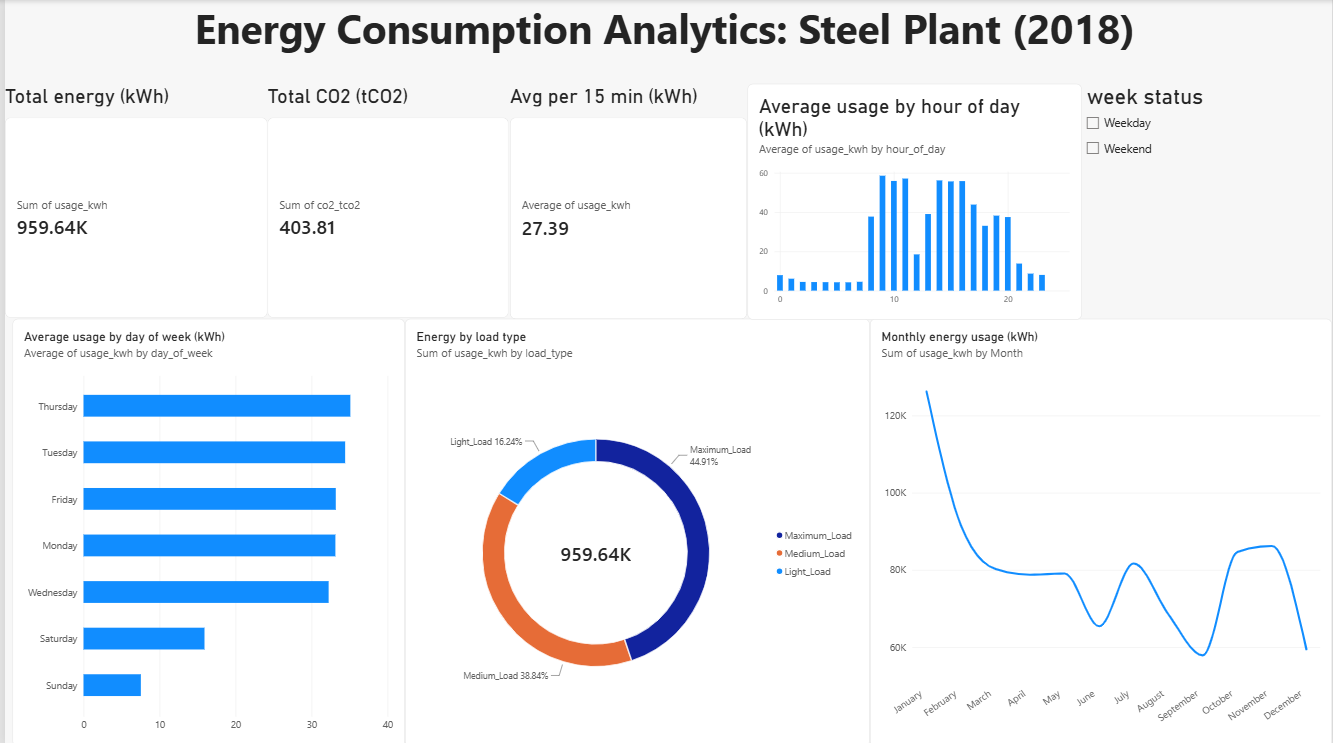

The dashboard page shown, as its layout file describes it:
{"tool":"powerbi","page":{"name":"Page 1","canvas":[1920,1080],"ordinal":0},"visuals":[{"type":"cardVisual","title":"Total energy (kWh)","fields":{"Data":["Sum(energy_project.usage_kwh)"]},"box":[0,121.4,380.8,339.6],"z":0},{"type":"cardVisual","title":"Total CO2 (tCO2)","fields":{"Data":["Sum(energy_project.co2_tco2)"]},"box":[380.8,121.4,349.9,339.6],"z":1},{"type":"cardVisual","title":"Avg per 15 min (kWh)","fields":{"Data":["Avg(energy_project.usage_kwh)"]},"box":[730.7,121.4,343.7,341.7],"z":2},{"type":"barChart","title":"Average usage by day of week (kWh)","fields":{"Category":["energy_project.day_of_week"],"Y":["Avg(energy_project.usage_kwh)"]},"box":[10.3,461.1,568.1,619.6],"z":3},{"type":"donutChart","title":"Energy by load type","fields":{"Category":["energy_project.load_type"],"Y":["Sum(energy_project.usage_kwh)"]},"box":[578.4,461.1,673.1,619.6],"z":4},{"type":"lineChart","title":"Monthly energy usage (kWh)","fields":{"Category":["energy_project.ts.Variation.Date Hierarchy.Month"],"Y":["Sum(energy_project.usage_kwh)"]},"box":[1251.5,461.1,669,619.6],"z":5},{"type":"clusteredColumnChart","title":"Average usage by hour of day (kWh)","fields":{"Category":["energy_project.hour_of_day"],"Y":["Avg(energy_project.usage_kwh)"]},"box":[1074.4,121.4,483.7,341.7],"z":6},{"type":"slicer","fields":{"Values":["energy_project.week_status"]},"box":[1558.2,121.4,362.3,341.7],"z":7},{"type":"textbox","box":[0,0,1910.1,121.4],"z":8}]}

Visuals, with their boxes in screenshot pixels (x1, y1, x2, y2), scaled from the page's 1920x1080 canvas onto the 1333x743 screenshot:
"Total energy (kWh)" cardVisual: {"left": 0, "top": 84, "right": 264, "bottom": 317}
"Total CO2 (tCO2)" cardVisual: {"left": 264, "top": 84, "right": 507, "bottom": 317}
"Avg per 15 min (kWh)" cardVisual: {"left": 507, "top": 84, "right": 746, "bottom": 319}
"Average usage by day of week (kWh)" barChart: {"left": 7, "top": 317, "right": 402, "bottom": 742}
"Energy by load type" donutChart: {"left": 402, "top": 317, "right": 869, "bottom": 742}
"Monthly energy usage (kWh)" lineChart: {"left": 869, "top": 317, "right": 1332, "bottom": 742}
"Average usage by hour of day (kWh)" clusteredColumnChart: {"left": 746, "top": 84, "right": 1082, "bottom": 319}
slicer - energy_project.week_status: {"left": 1082, "top": 84, "right": 1332, "bottom": 319}
textbox: {"left": 0, "top": 0, "right": 1326, "bottom": 84}
